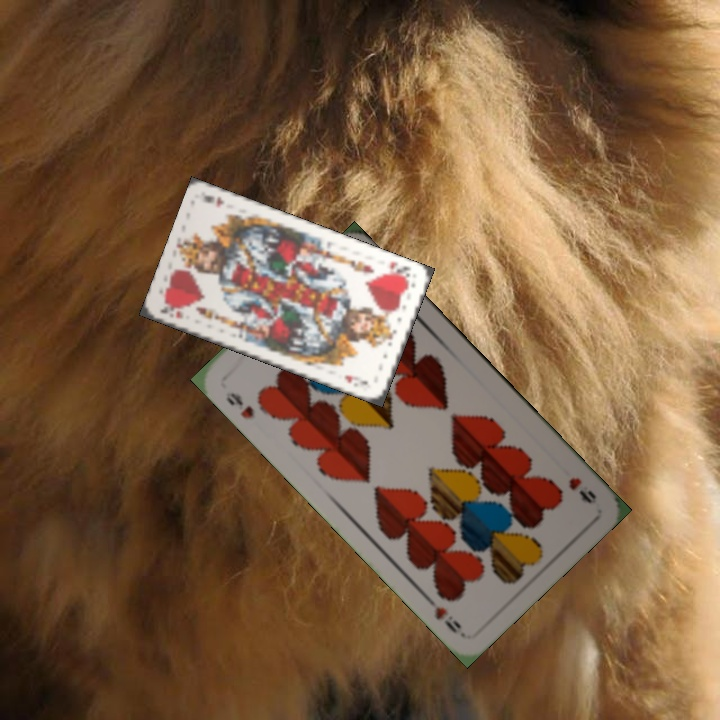H9: (221, 388, 257, 422), (565, 473, 599, 507)
HK: (385, 257, 413, 283), (156, 299, 186, 321)
